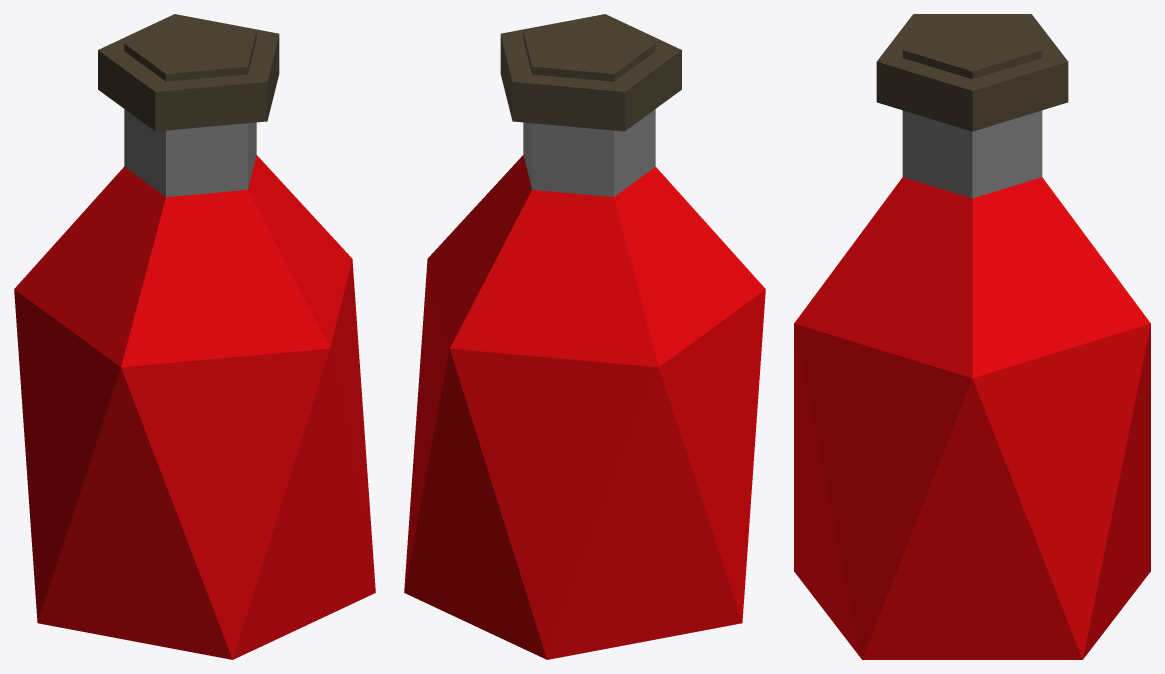
Rendered from Potion4.fbx.
3 renders of one model, left to right at view 1: azimuth 30°, elevation 25°; view 2: azimuth 150°, elevation 25°; view 3: azimuth 270°, elevation 25°, orthographic. The views are drawn at different scales.
Visible parts, largest first — view 1: Potion; view 2: Potion; view 3: Potion.
Part boxes in pixels (x1=…): Potion: x1=14, y1=14, x2=375, y2=659; Potion: x1=404, y1=14, x2=765, y2=659; Potion: x1=794, y1=14, x2=1150, y2=659.
Size of the model in its own units: 26.83 by 43.81 by 25.52.
